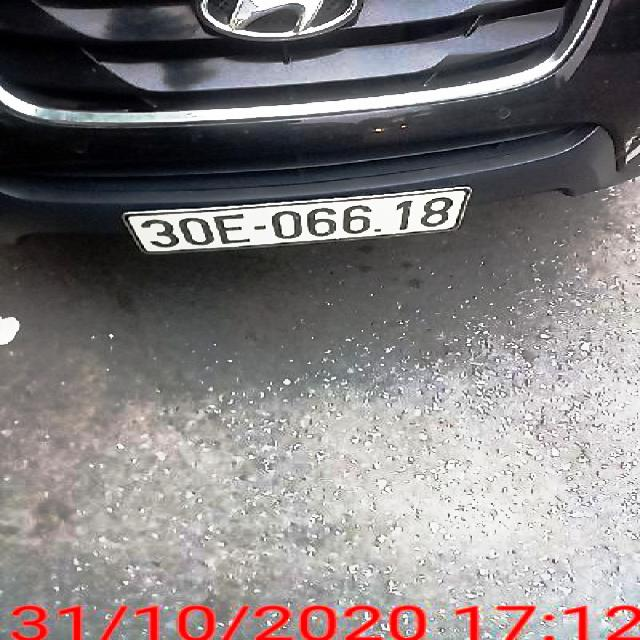license_plate: (121, 190, 469, 254)
